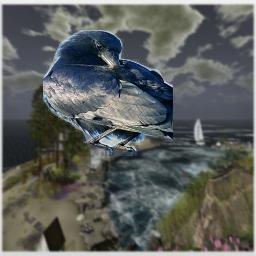Crow: (43, 30, 173, 156)
